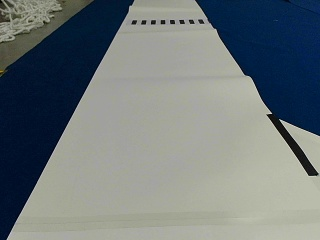crosswalk: (133, 18, 205, 24)
